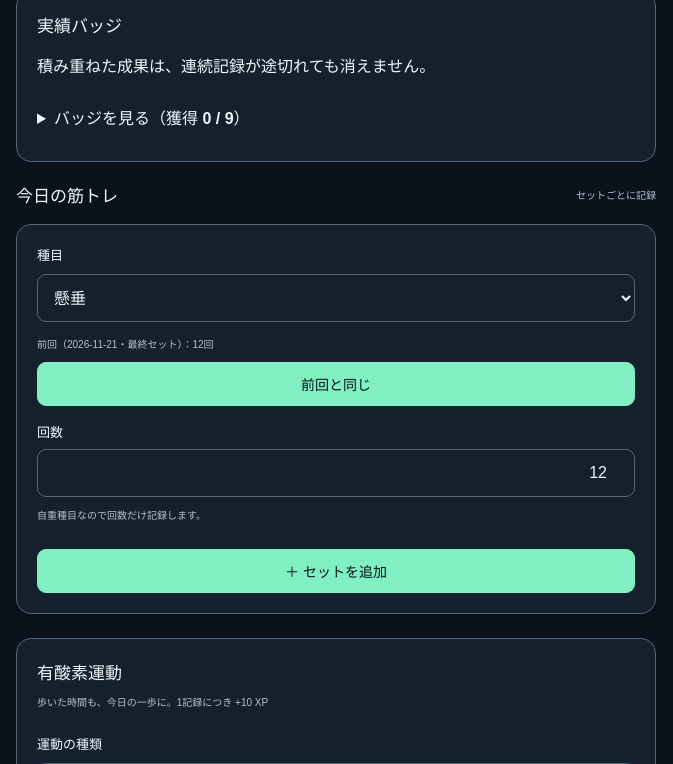
Test: workout sets UI › shows a save error without losing previous values
This screenshot has width=673, height=764.
(page scrolled)
Click the button "前回と同じ" at (336, 384), box [37,362,635,406]
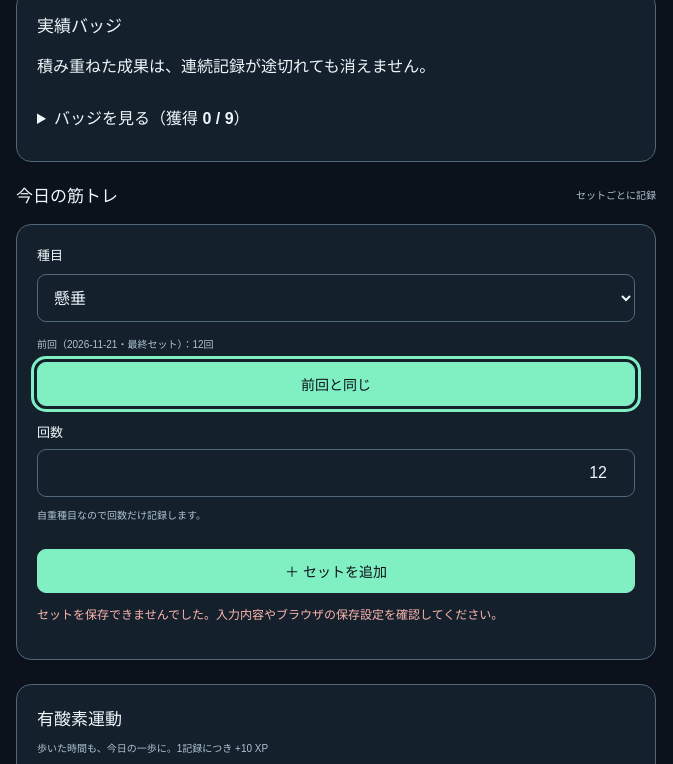
Expected: the number field labelled "回数" holds "12", [37,449,635,497]
Expected: the message shows "セットを保存できませんでした", [37,608,503,622]
